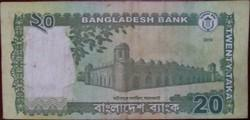20 taka: (1, 2, 246, 118)
